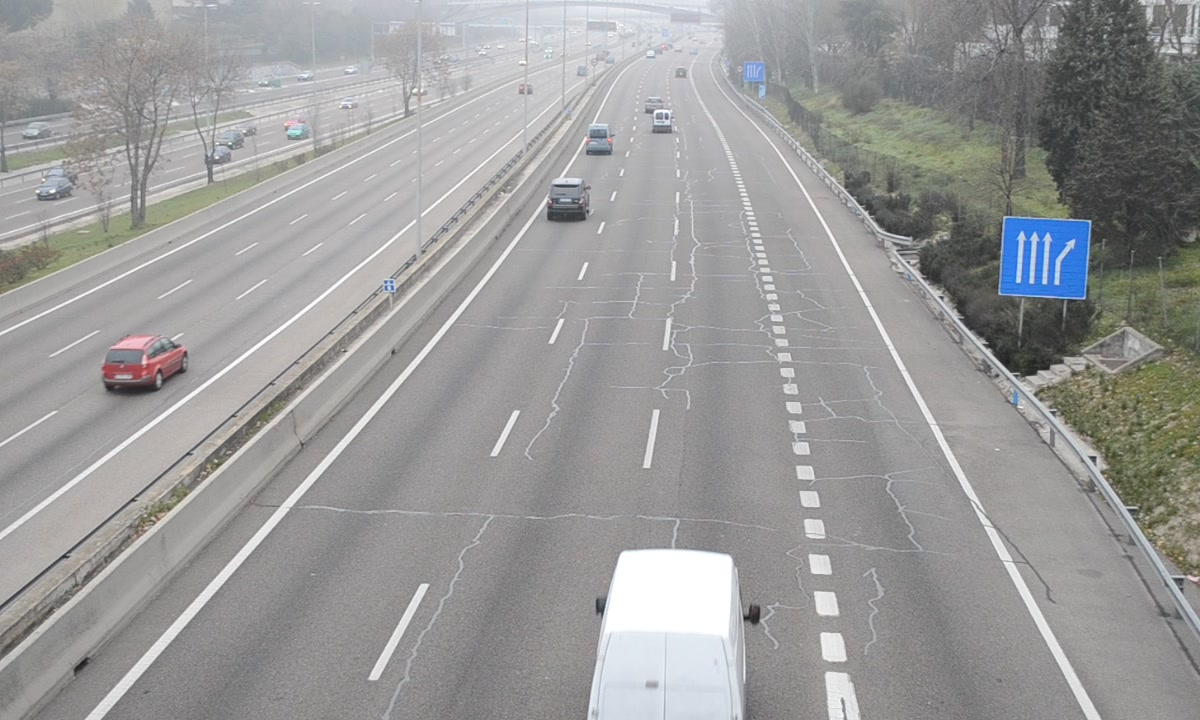car: (546, 178, 590, 220)
van: (590, 549, 748, 720), (585, 123, 612, 154)
